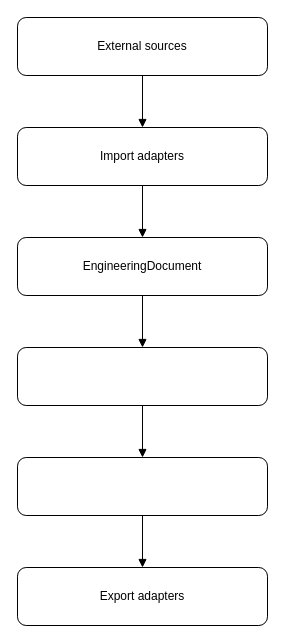
Image size: 285x643. Some labels were removed from this diagram. Each missing label, with the box of its shape:
Transformations: (16, 346, 268, 406)
Updated document: (16, 456, 268, 516)
